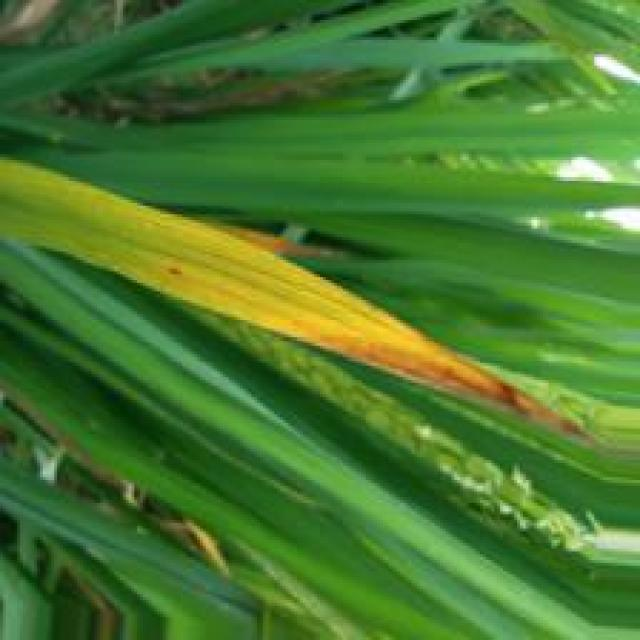Leaf_Scald: (301, 339, 560, 430)
